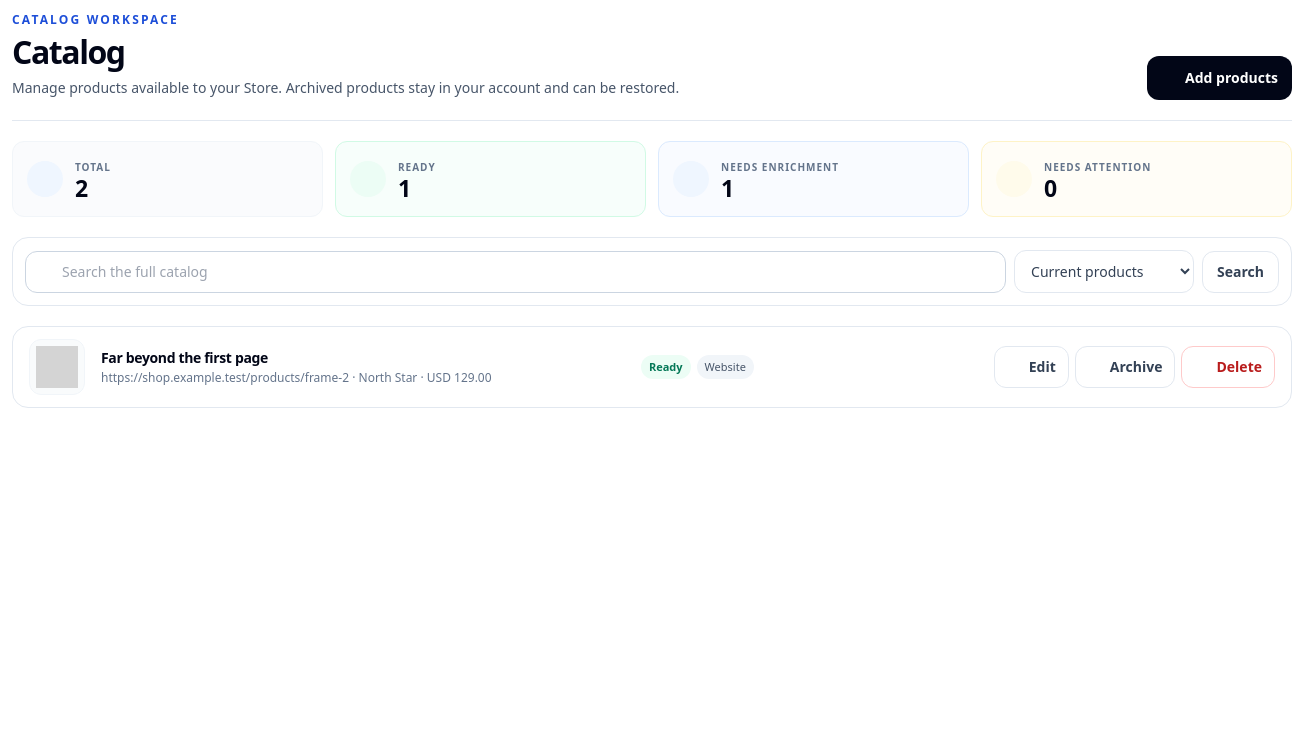
it: MerchantCatalogWorkspace › never sends DELETE until explicit confirmation and reloads Catalog after success
The image size is (1304, 732).
Click the button "Delete". click: (1228, 367)
box: [1182,346,1275,388]
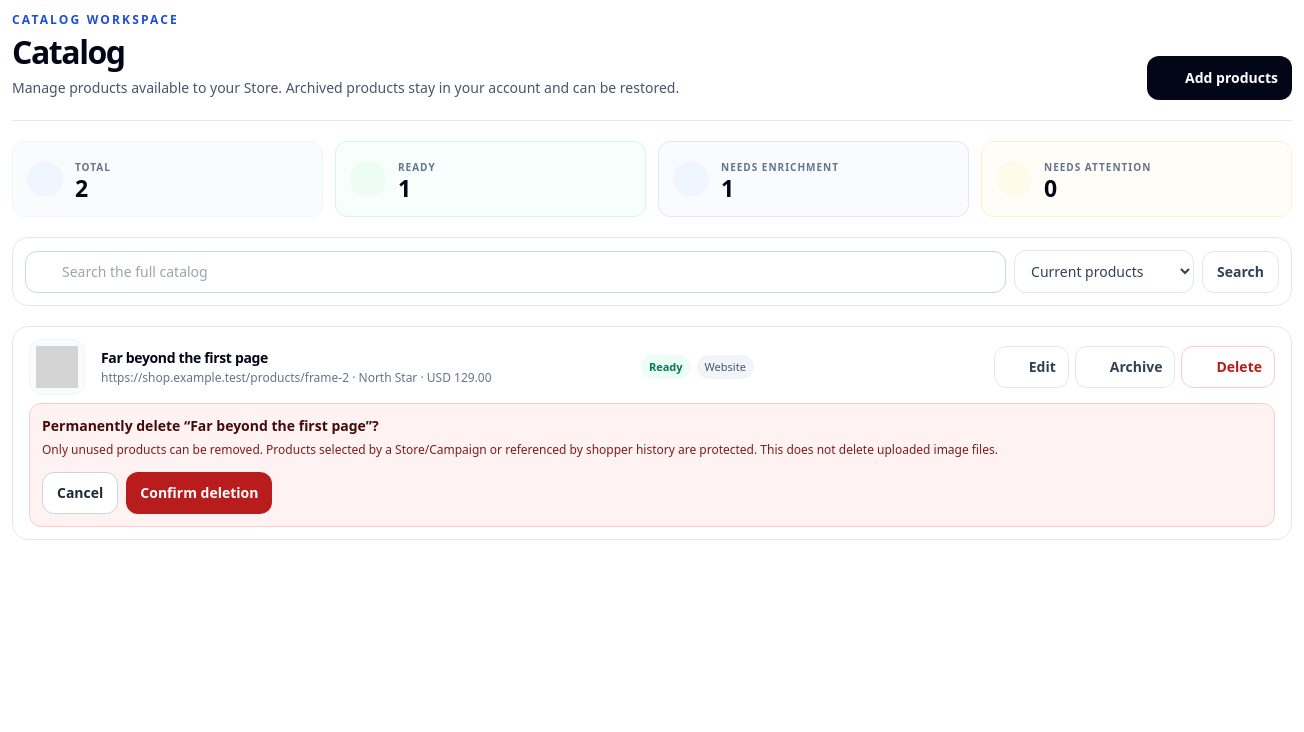
Check: the text "Permanently delete “Far beyond the first page”?" is shown, box [42,416,379,435]
Click the button "Confirm deletion". click: (199, 493)
box: [126,472,272,514]
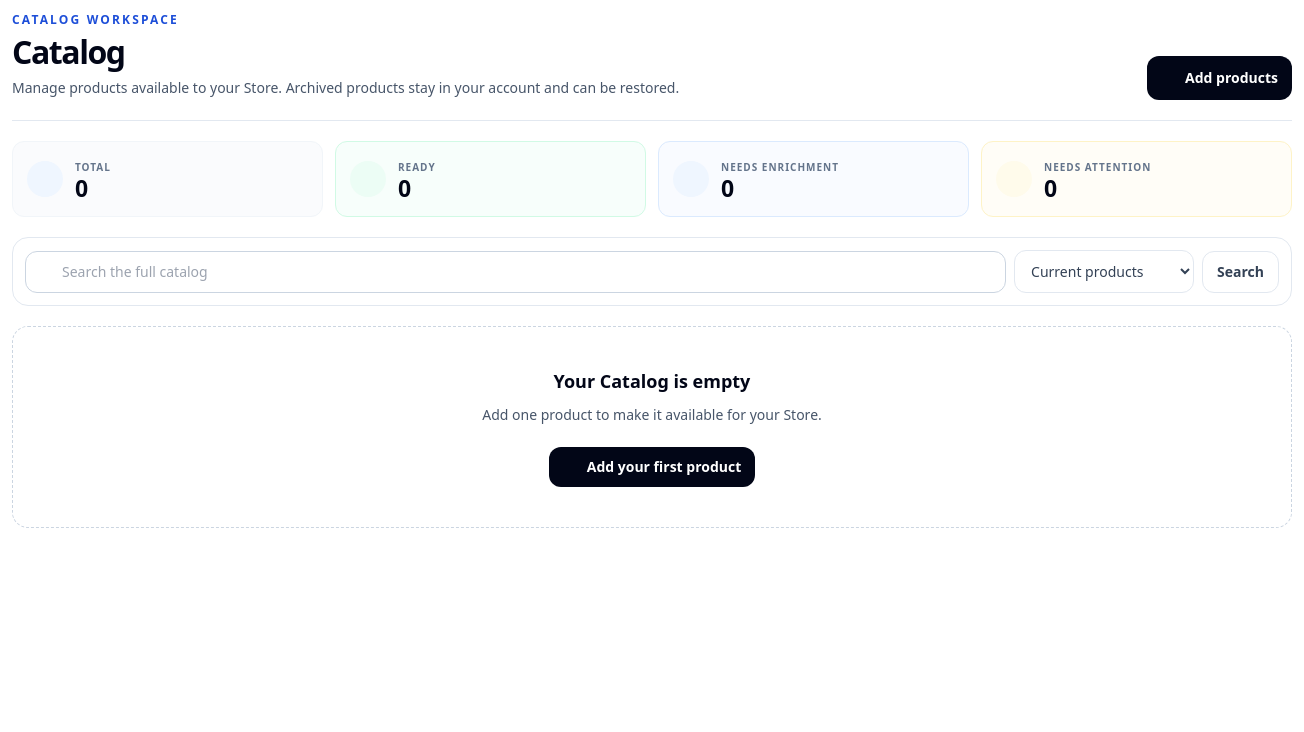
Check: the heading "Your Catalog is empty" is shown, box [554,369,750,393]
